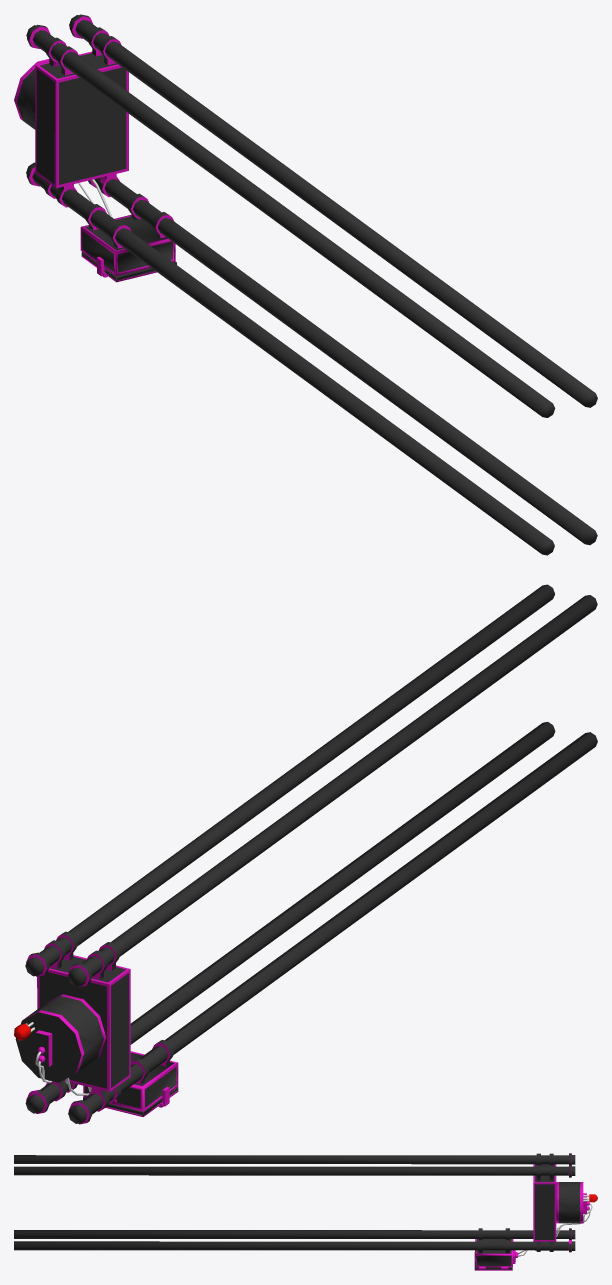
File: PressFrame.fbx
The picture shows the model from 3 angles, top to bottom: view 1: azimuth 30°, elevation 25°; view 2: azimuth 150°, elevation 25°; view 3: azimuth 270°, elevation 25°; orthographic projection. The views are drawn at different scales.
Parts seen in each view (by area): view 1: Press; view 2: Press; view 3: Press.
Part boxes in pixels (<box>): Press: <box>14,14,597,555</box>; Press: <box>14,584,597,1124</box>; Press: <box>14,1153,597,1270</box>.
Size of the model in its own units: 2.49 by 6.32 by 31.68.
